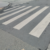zebra: (1, 6, 50, 37)
